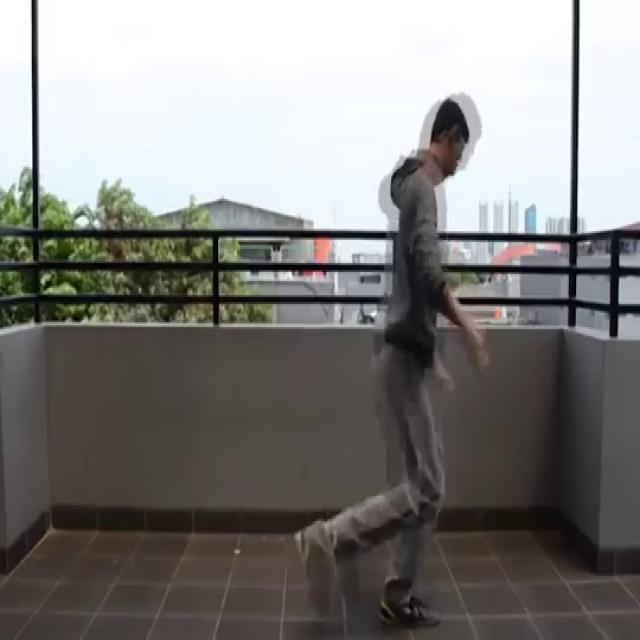normal: (296, 80, 482, 628)
